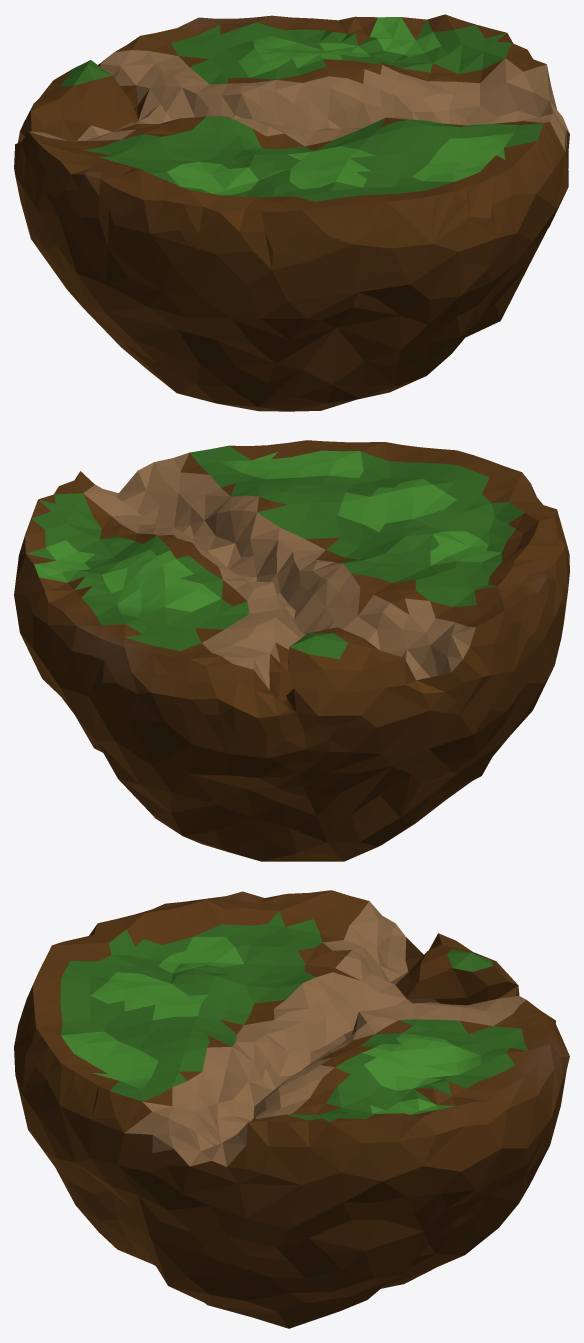
File: OnlyIsland.fbx
3 views of the same model, one above another, from view 1: azimuth 30°, elevation 25°; view 2: azimuth 150°, elevation 25°; view 3: azimuth 270°, elevation 25° (orthographic).
Parts seen in each view (by area): view 1: Island.001; view 2: Island.001; view 3: Island.001.
Boxes of the visible parts, box(x1,y1,x2,y2) form: Island.001: box(14, 14, 569, 411); Island.001: box(14, 440, 569, 861); Island.001: box(14, 890, 569, 1328).
Bounding box in the file's own units: 2962 × 1771 × 2963.
